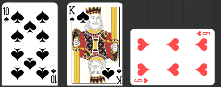10C: (49, 67, 57, 84)
4H: (133, 76, 149, 83)
